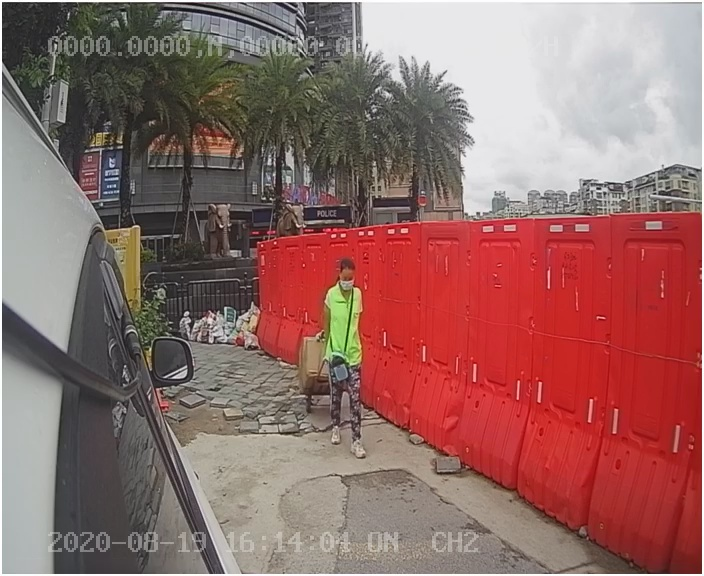person: (308, 253, 392, 467)
